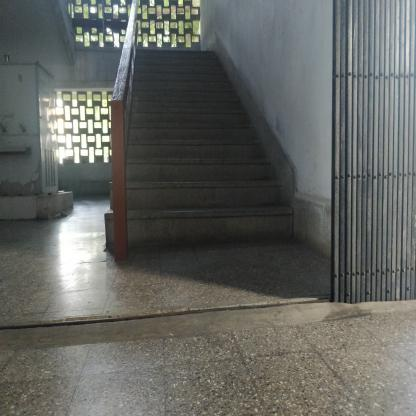stairs: (137, 125, 276, 257)
